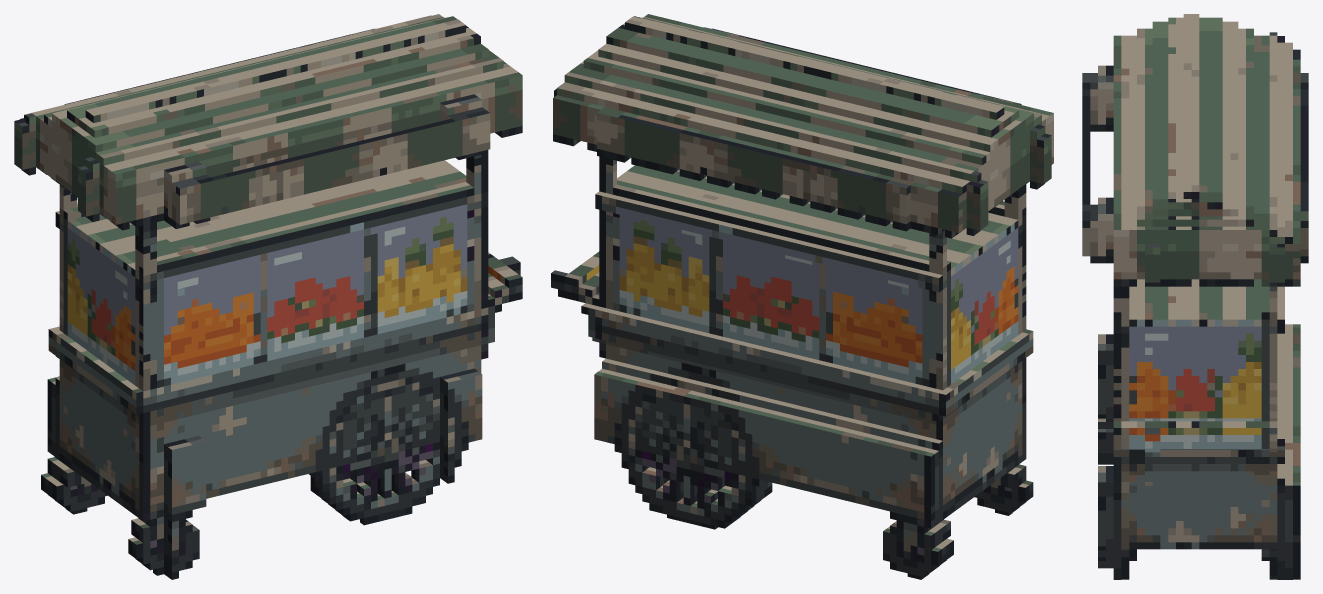
Rendered from city_fruit_cart.glb.
The picture shows the model from 3 angles, left to right: view 1: azimuth 30°, elevation 25°; view 2: azimuth 150°, elevation 25°; view 3: azimuth 270°, elevation 25°; orthographic projection. The views are drawn at different scales.
Visible parts, largest first — view 1: city_fruit_cart; view 2: city_fruit_cart; view 3: city_fruit_cart.
Part boxes in pixels (box(x1,y1,x2,y2)): city_fruit_cart: box(14, 14, 522, 579); city_fruit_cart: box(551, 14, 1053, 579); city_fruit_cart: box(1082, 14, 1308, 579).
Size of the model in its own units: 1.97 by 1.91 by 0.9062.
